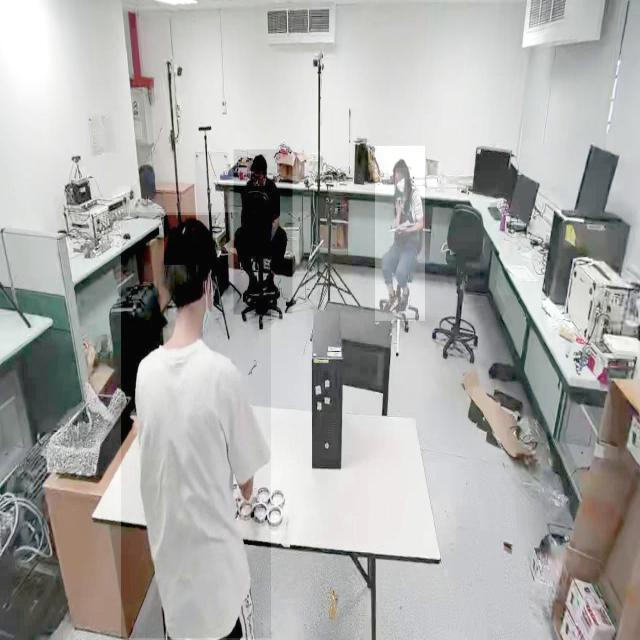face_mask: (396, 168, 408, 200)
face_nomask: (251, 172, 264, 186)
hand_noglove: (394, 198, 404, 216), (396, 225, 408, 236)
head_nohelmet: (164, 215, 216, 266), (250, 154, 267, 172), (392, 158, 408, 172)
person: (121, 213, 271, 639), (233, 149, 293, 315), (375, 146, 425, 322)
shoes: (262, 268, 284, 302), (379, 289, 400, 317), (398, 279, 413, 316), (242, 272, 260, 302)
